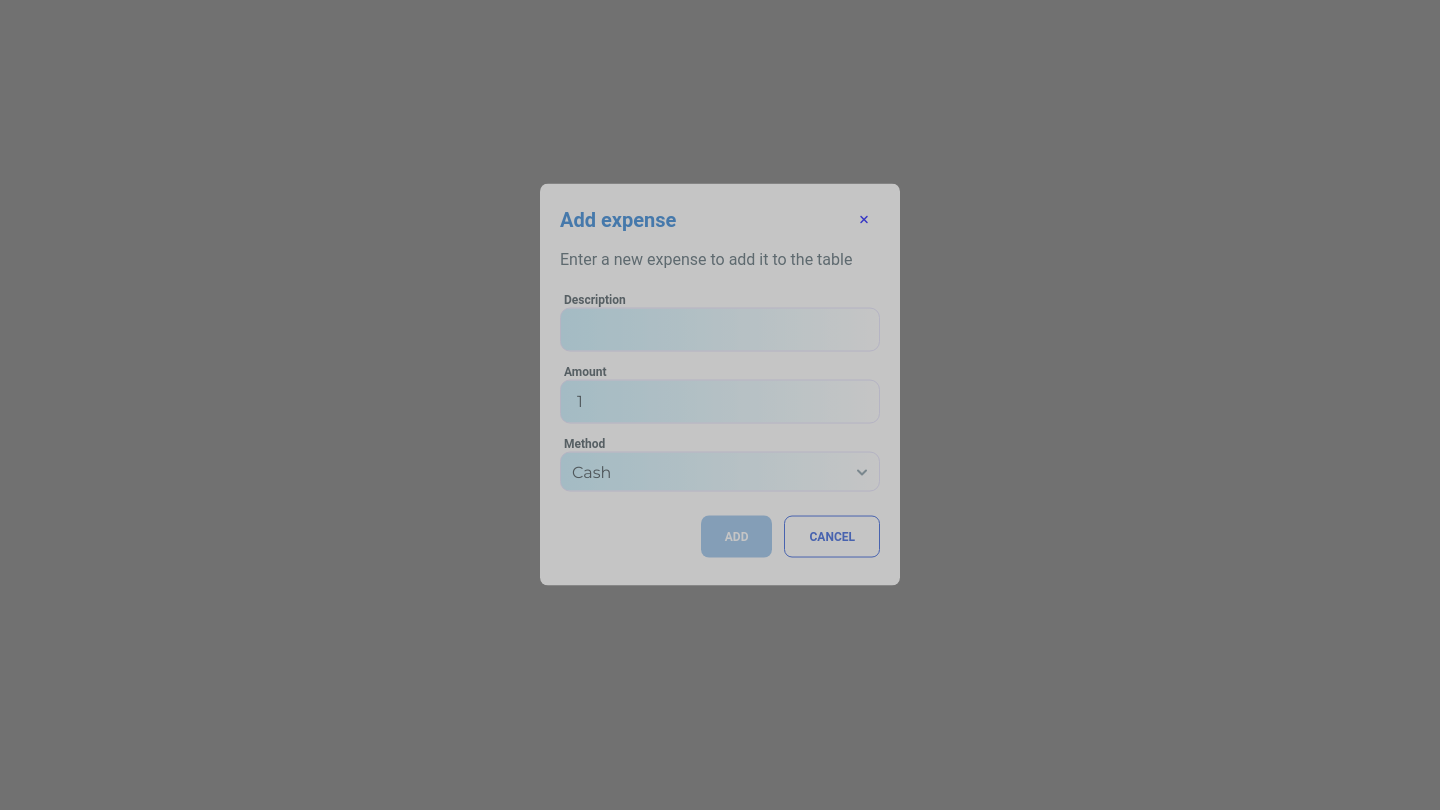
Scenario: Expenses Form › Validations › should display empty validation errors
Clear the field labelled "Description" at (720, 330), box [560,308,880,352]
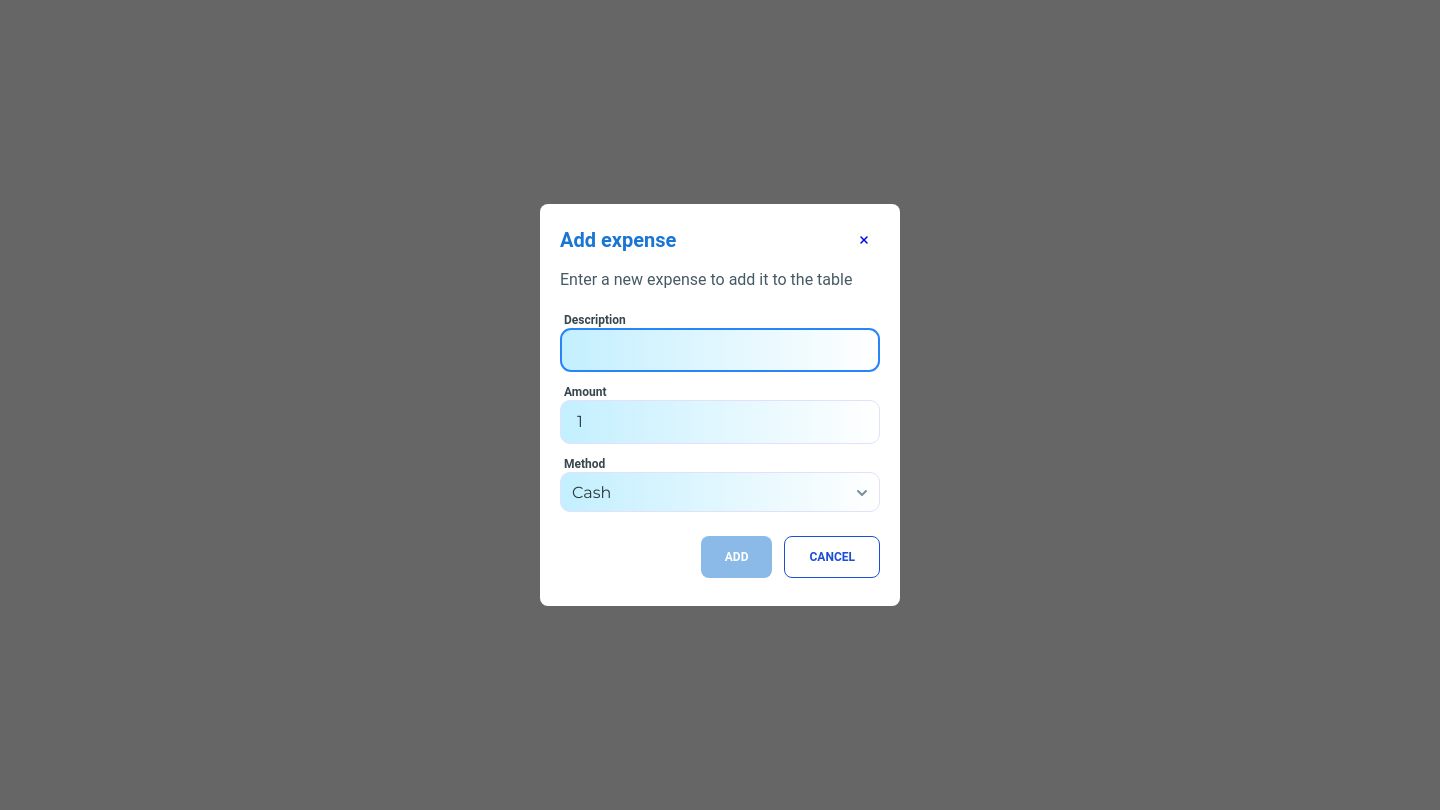
Press Tab
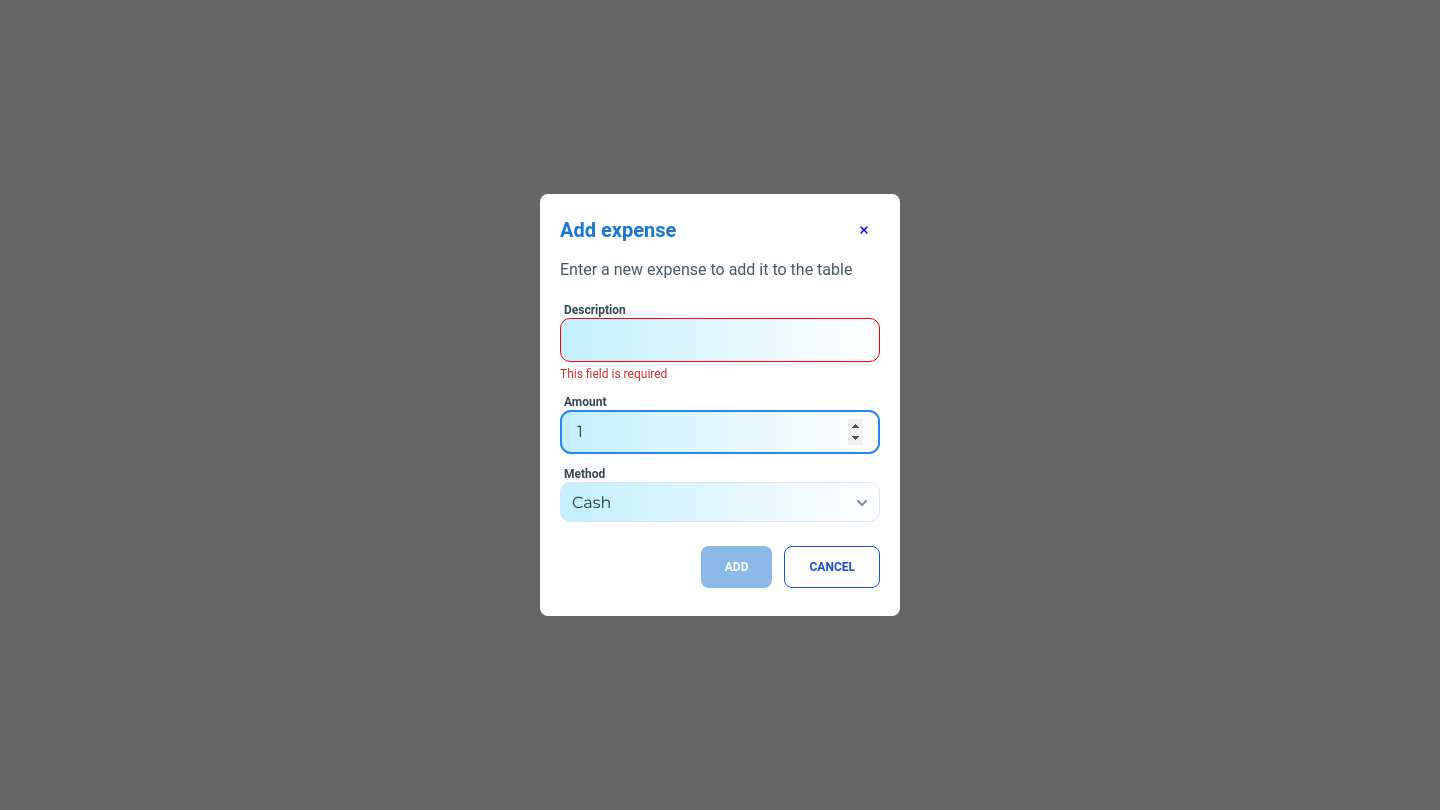
Clear the number field labelled "Amount" at (720, 432), box [560,410,880,454]
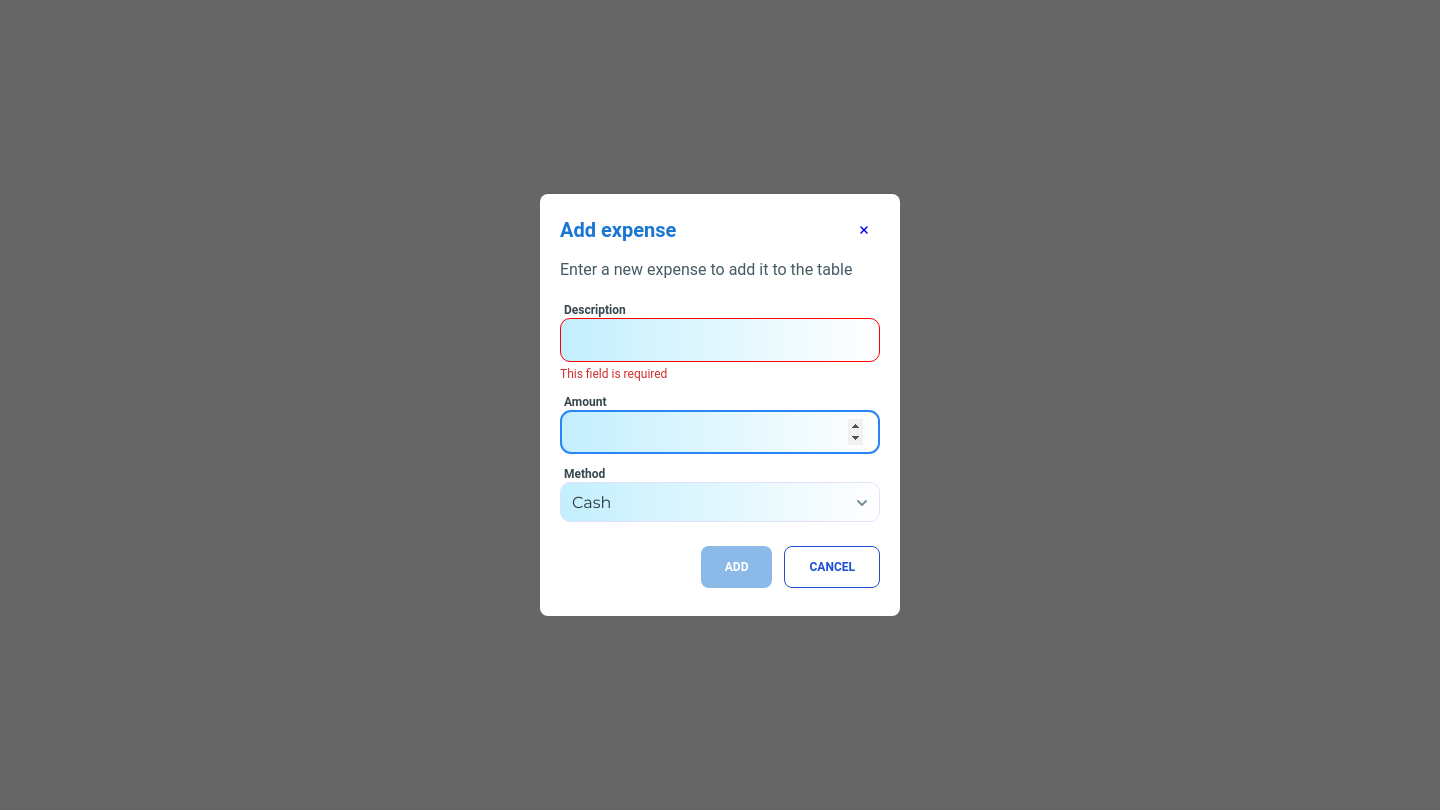
Press Tab
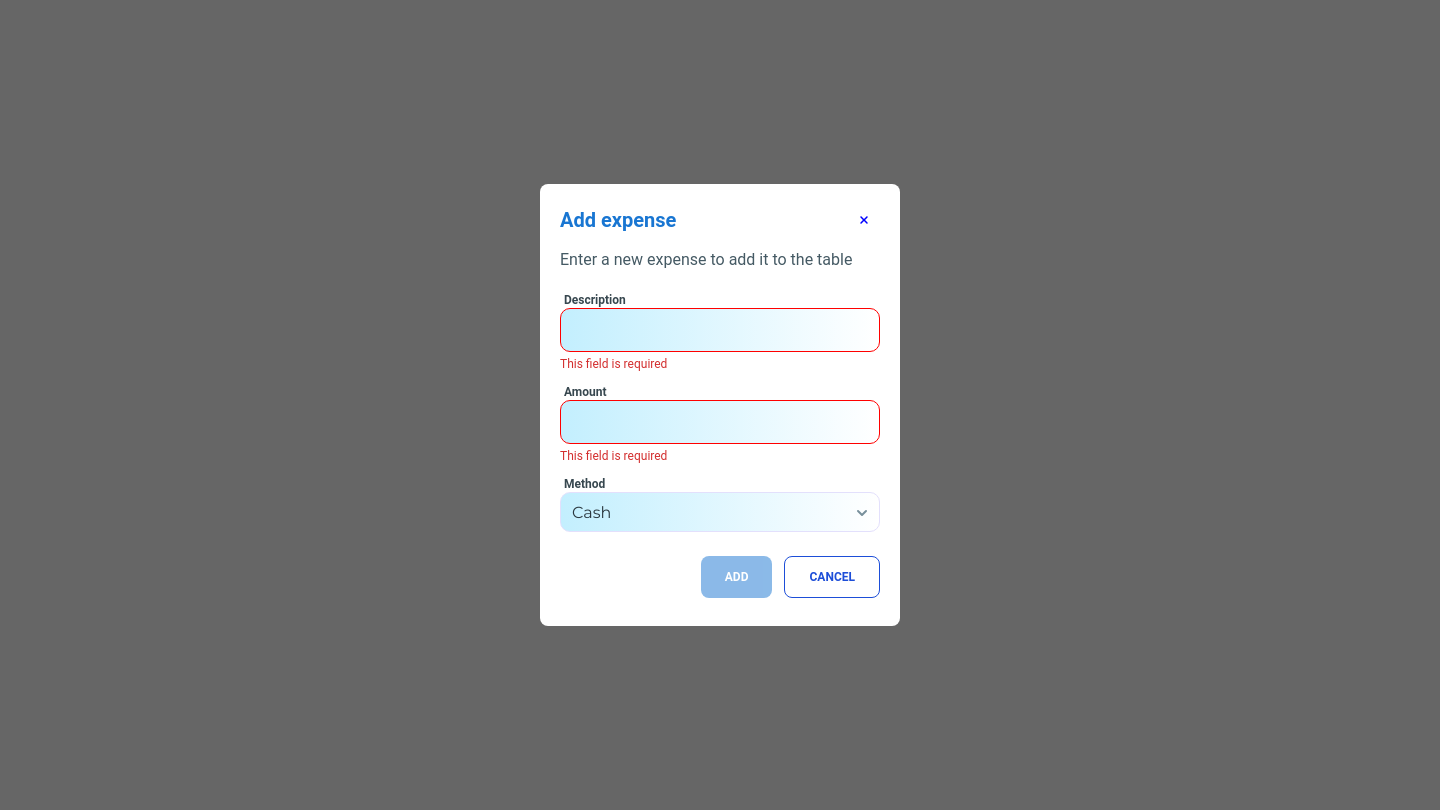
Expected: the message "This field is required" below "Description" is shown, [560,357,667,371]
Expected: the number of messages is 2, [560,357,667,371]; [560,449,667,463]
Expected: the message "This field is required" below "Amount" is shown, [560,449,667,463]
